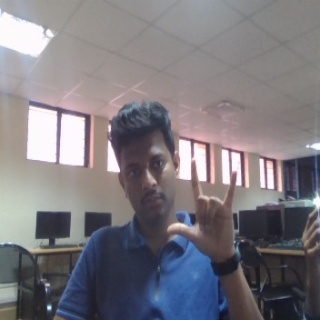I Love You: (164, 158, 238, 261)
